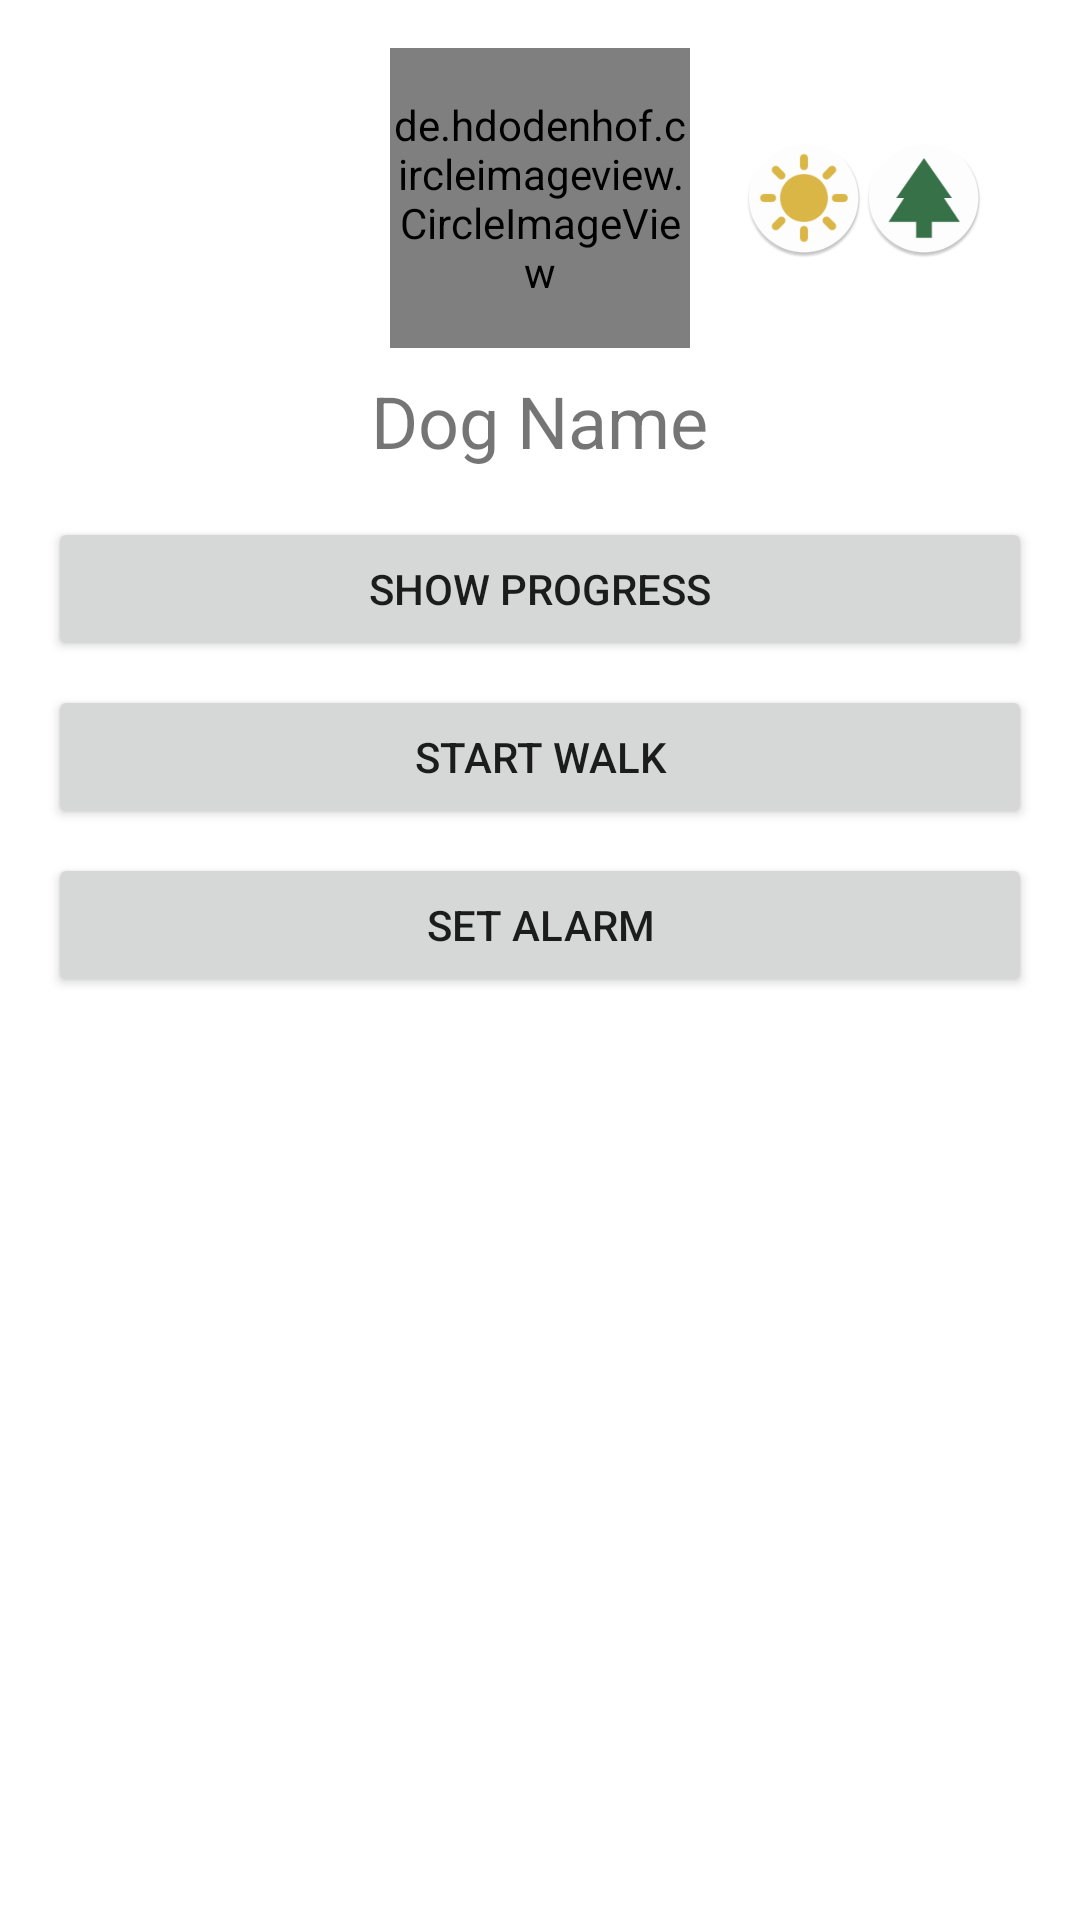

Screen size 1080px x 1920px. Icon name, then its box in pixels as Rect(x1, y1, x2, y2):
outdoors: Rect(871, 158, 980, 256)
